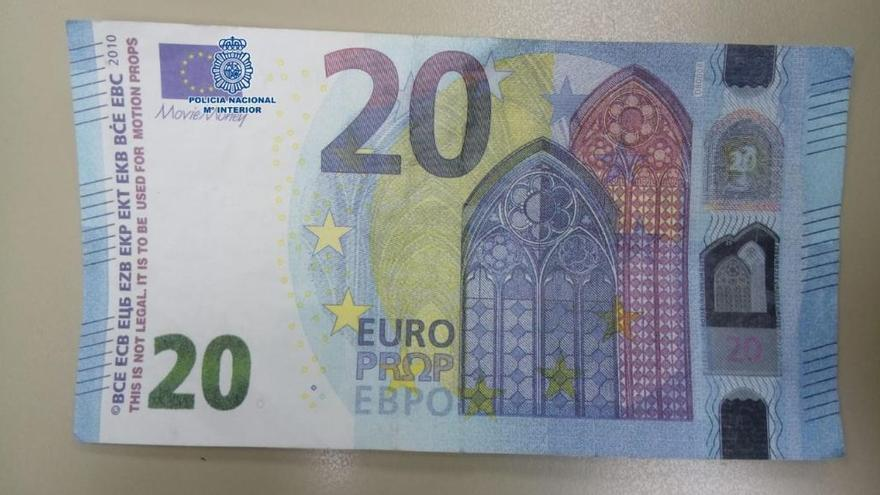euro_banknote: (62, 30, 853, 453)
